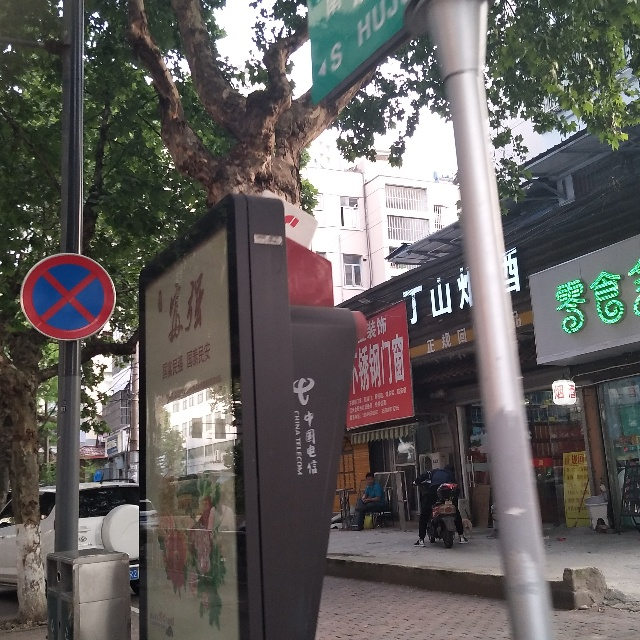stop: (28, 256, 103, 334)
